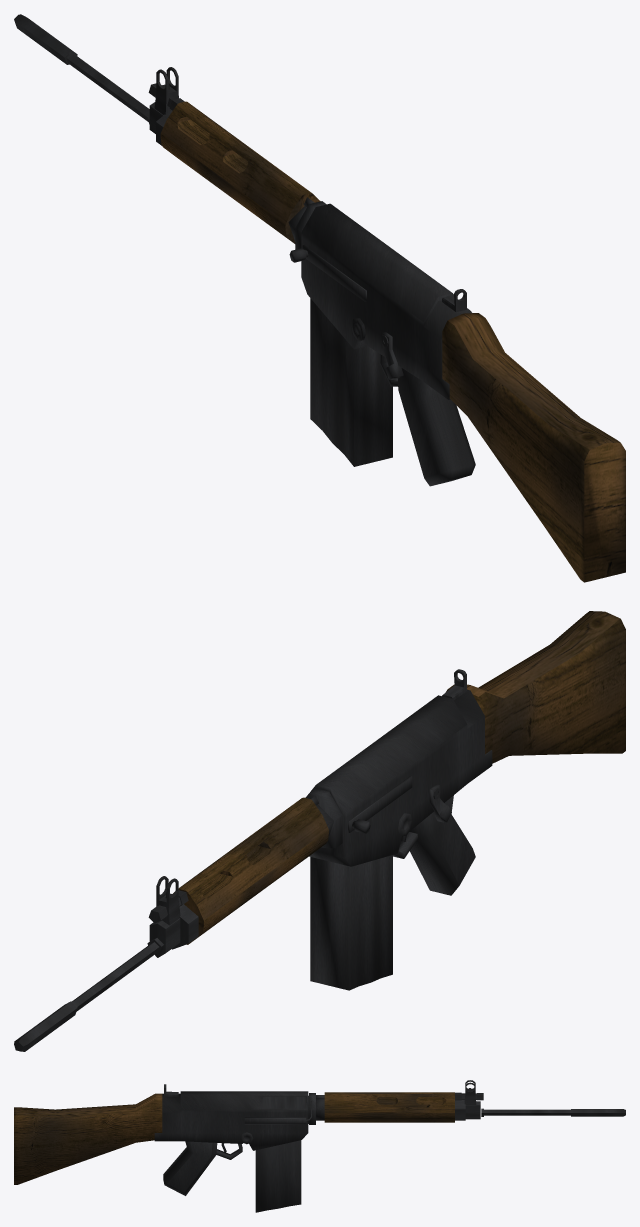
The model's file is FN FAL.fbx.
3 renders of one model, top to bottom at view 1: azimuth 30°, elevation 25°; view 2: azimuth 150°, elevation 25°; view 3: azimuth 270°, elevation 25°, orthographic. The views are drawn at different scales.
Parts seen in each view (by area): view 1: Base, Barrel, Magazine; view 2: Base, Barrel, Magazine; view 3: Base, Barrel, Magazine, Bolt.
Boxes of the visible parts, x1,y1,x2,y2 form: Base: (288,197,625,582); Barrel: (14,14,320,243); Magazine: (310,298,392,466); Base: (305,611,625,895); Barrel: (14,797,328,1051); Magazine: (310,855,392,990); Base: (14,1091,324,1195); Barrel: (324,1080,625,1122); Magazine: (255,1140,301,1212); Bolt: (260,1096,305,1108).
Size of the model in its own units: 71.38 by 221 by 973.
Materials: 1 (1 with a texture image).
